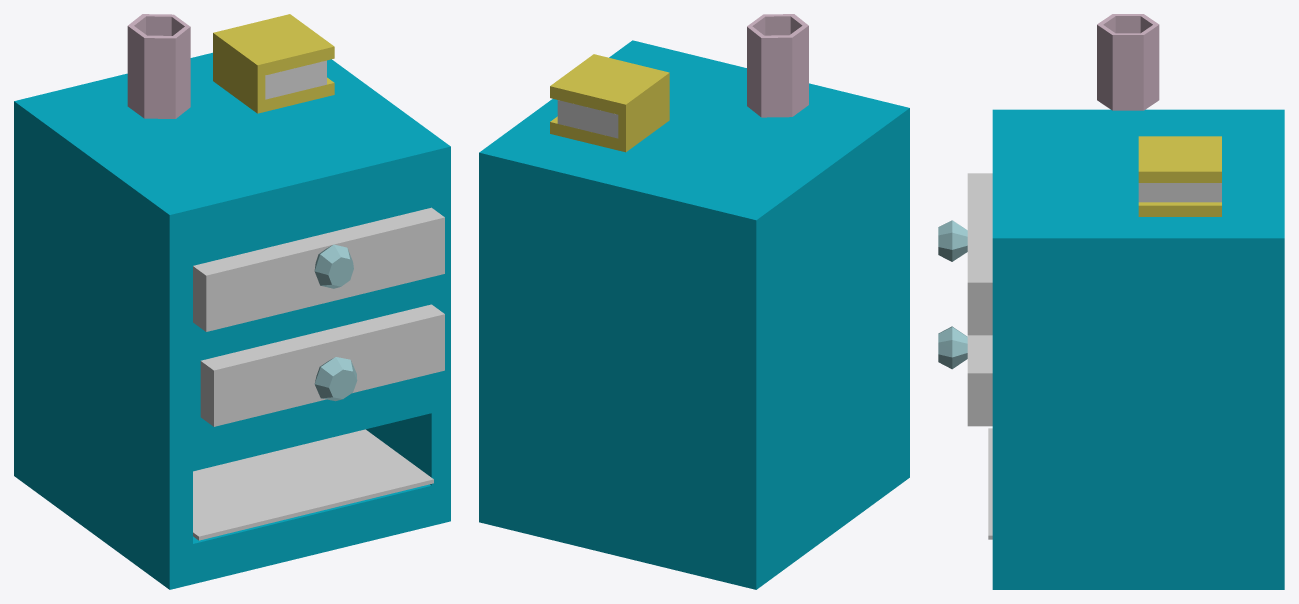
Rendered from Project-149.glb.
3 views of the same model, side by side, from view 1: azimuth 30°, elevation 25°; view 2: azimuth 150°, elevation 25°; view 3: azimuth 270°, elevation 25° (orthographic). The views are drawn at different scales.
Visible parts, largest first — view 1: Mesh_Mesh_head_geo.001_lambert2SG.001; view 2: Mesh_Mesh_head_geo.001_lambert2SG.001; view 3: Mesh_Mesh_head_geo.001_lambert2SG.001.
Boxes of the visible parts, x1,y1,x2,y2 form: Mesh_Mesh_head_geo.001_lambert2SG.001: (14, 14, 450, 589); Mesh_Mesh_head_geo.001_lambert2SG.001: (479, 14, 909, 589); Mesh_Mesh_head_geo.001_lambert2SG.001: (938, 14, 1284, 589).
Bounding box in the file's own units: 73 × 123 × 83.
